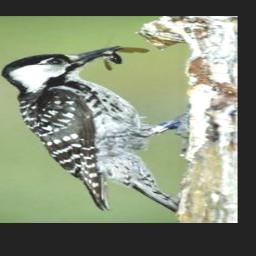Woodpecker: (0, 45, 179, 215)
